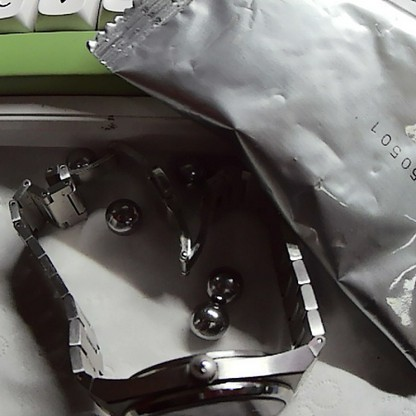ironball: (180, 294, 225, 340), (171, 150, 209, 193), (201, 266, 240, 305), (103, 196, 142, 233), (58, 148, 98, 175)
